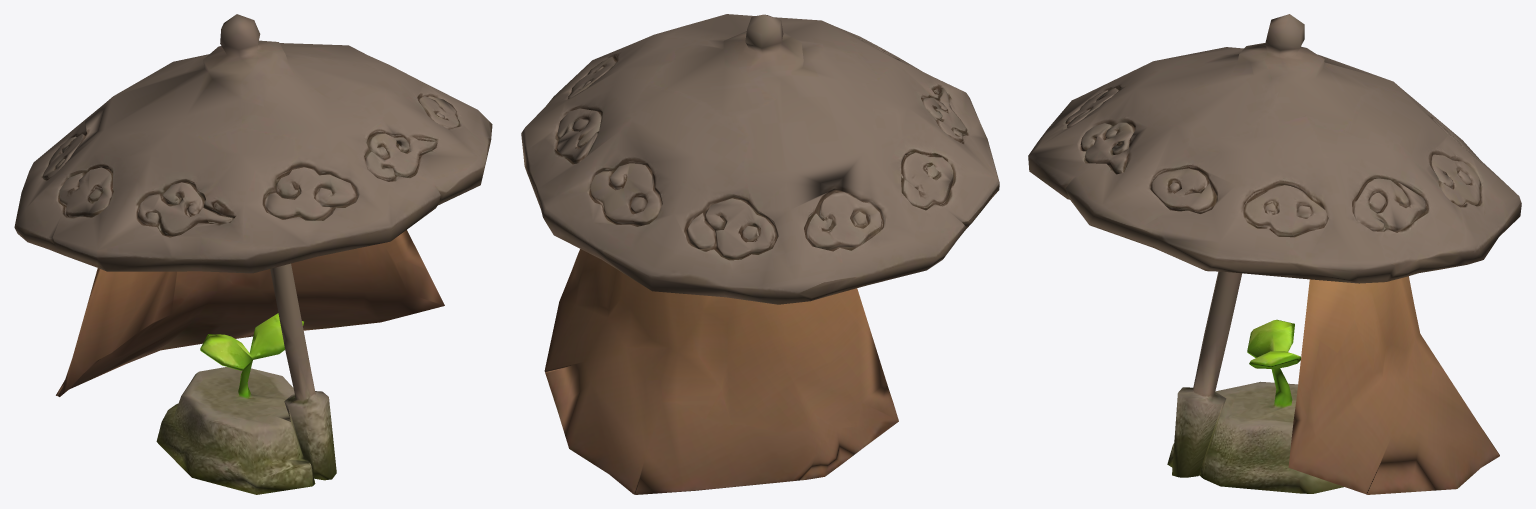
File: tg_zhengyin.glb
3 renders of one model, left to right at view 1: azimuth 30°, elevation 25°; view 2: azimuth 150°, elevation 25°; view 3: azimuth 270°, elevation 25°, orthographic. The views are drawn at different scales.
Parts seen in each view (by area): view 1: tripo_node_0abf1cc4-150b-497b-86cc-9cf00e81c0c9; view 2: tripo_node_0abf1cc4-150b-497b-86cc-9cf00e81c0c9; view 3: tripo_node_0abf1cc4-150b-497b-86cc-9cf00e81c0c9.
Part boxes in pixels (x1,y1,x2,y2): tripo_node_0abf1cc4-150b-497b-86cc-9cf00e81c0c9: [14, 14, 492, 494]; tripo_node_0abf1cc4-150b-497b-86cc-9cf00e81c0c9: [521, 14, 999, 494]; tripo_node_0abf1cc4-150b-497b-86cc-9cf00e81c0c9: [1028, 14, 1521, 494].
Bounding box in the file's own units: 0.981 × 0.9695 × 0.9788.
1 material, 1 textured.
